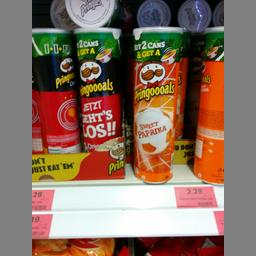chips: (131, 24, 184, 184), (72, 26, 125, 152), (31, 26, 79, 153), (191, 25, 223, 184)
